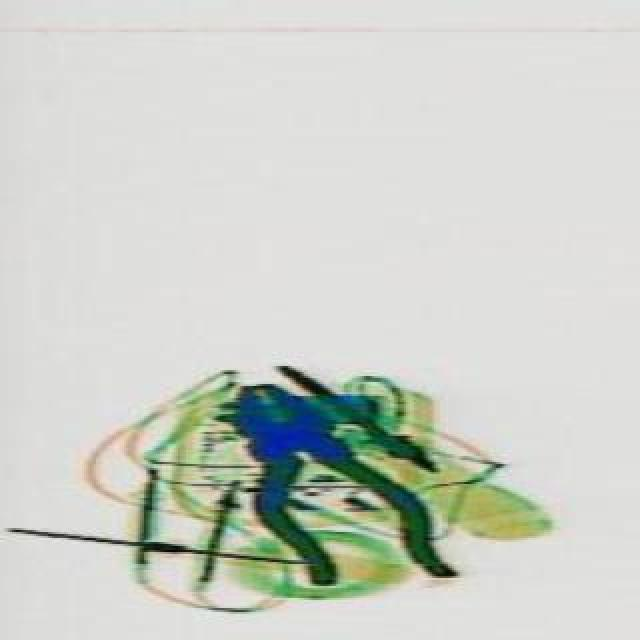wrench: (192, 346, 450, 634)
